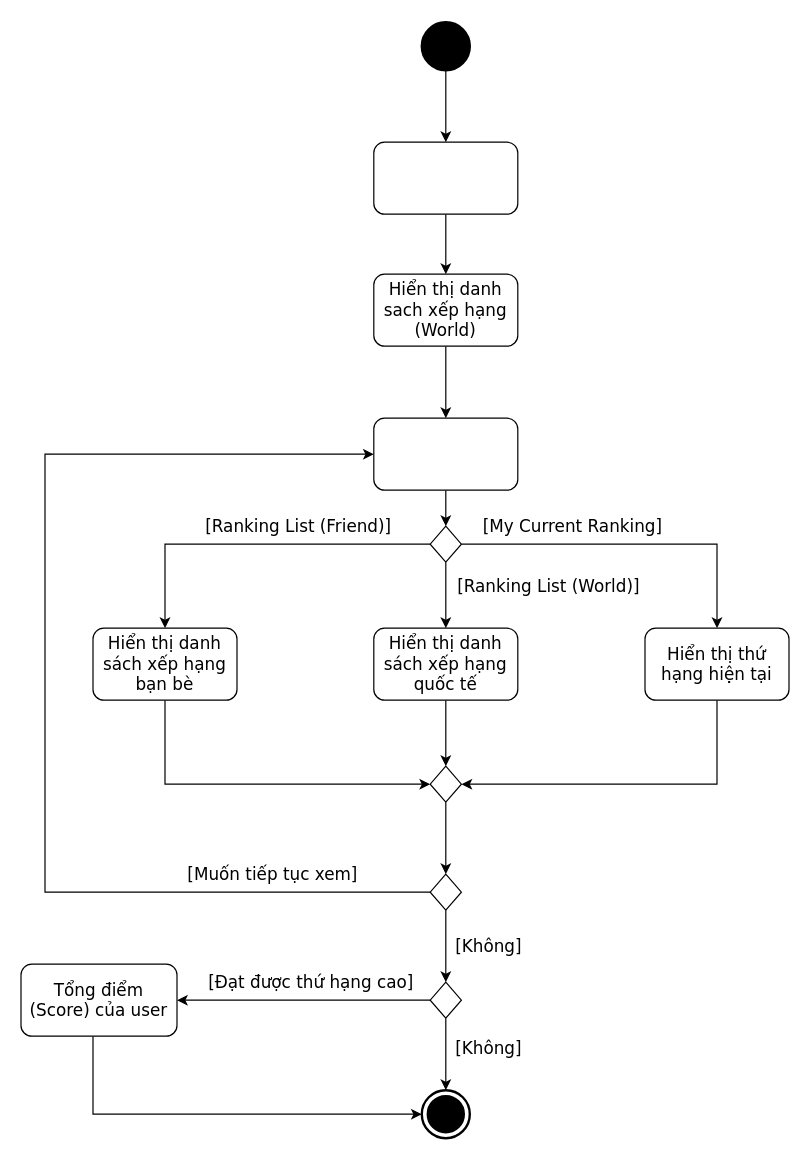
This 810x1159 diagram has some shape labels left out. The shapes that lost their labels are listed below. From the top down, each one's box as (x1, y1, x2, y2) in pixels, then its label:
(373, 141, 518, 214): Vào trang Ranking
(373, 417, 518, 490): Lựa chọn chế độ xem
